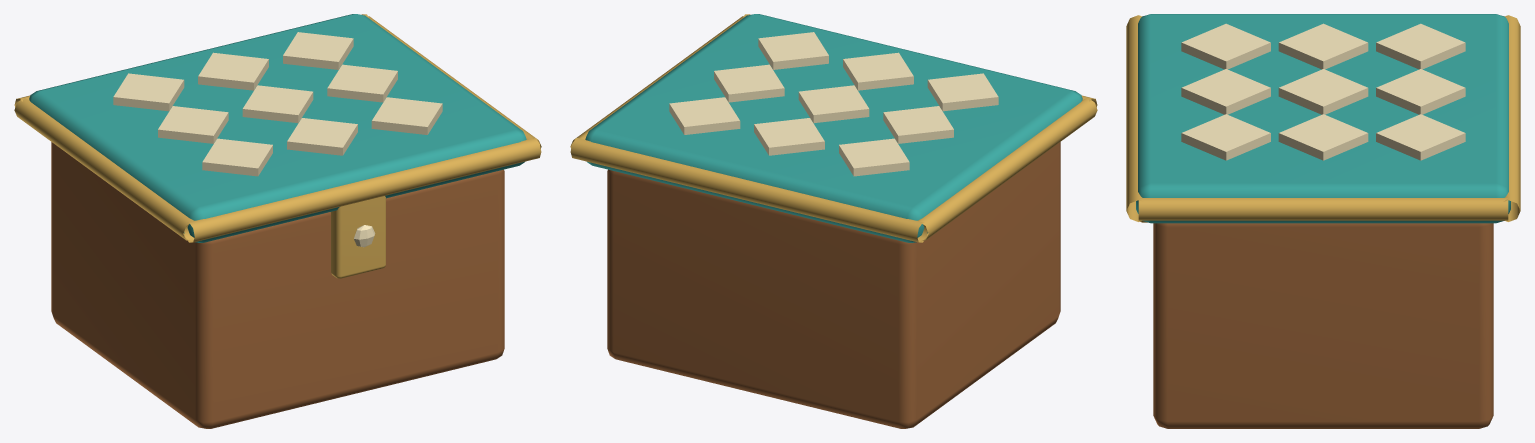
File: morocco-tile-box.glb
3 views of the same model, side by side, from view 1: azimuth 30°, elevation 25°; view 2: azimuth 150°, elevation 25°; view 3: azimuth 270°, elevation 25° (orthographic). The views are drawn at different scales.
Visible parts, largest first — view 1: こばこ, タイルの ふた, はこの ふち, はこの ふち.002, まえの とめがね, ひしがた.004, ひしがた.002, ひしがた.006, ひしがた, ひしがた.005, ひしがた.007, ひしがた.008 (+3 smaller); view 2: こばこ, タイルの ふた, はこの ふち.001, はこの ふち.002, ひしがた.004, ひしがた, ひしがた.008, ひしがた.002, ひしがた.003, ひしがた.007, ひしがた.006, ひしがた.005 (+2 smaller); view 3: こばこ, タイルの ふた, はこの ふち.003, ひしがた.004, ひしがた.007, ひしがた.001, ひしがた.006, ひしがた.008, ひしがた, ひしがた.002, ひしがた.003, ひしがた.005 (+2 smaller).
Part boxes in pixels (x1,y1,x2,y2): こばこ: (51,142,504,428); タイルの ふた: (29,14,526,242); はこの ふち: (184,138,541,242); はこの ふち.002: (14,98,193,241); まえの とめがね: (330,196,385,278); ひしがた.004: (242,85,313,123); ひしがた.002: (113,73,184,111); ひしがた.006: (371,97,442,134); ひしがた: (202,138,272,176); ひしがた.005: (198,52,268,90); ひしがた.007: (327,64,397,102); ひしがた.008: (283,32,353,69); こばこ: (607,142,1060,428); タイルの ふた: (585,14,1082,242); はこの ふち.001: (570,138,927,242); はこの ふち.002: (918,98,1097,241); ひしがた.004: (798,85,869,123); ひしがた: (927,73,998,111); ひしがた.008: (669,97,740,134); ひしがた.002: (839,138,909,176); ひしがた.003: (843,52,913,90); ひしがた.007: (714,64,784,102); ひしがた.006: (758,32,828,69); ひしがた.005: (754,118,824,155); こばこ: (1153,223,1493,428); タイルの ふた: (1136,14,1510,223); はこの ふち.003: (1138,198,1508,220); ひしがた.004: (1278,69,1368,114); ひしがた.007: (1278,114,1368,160); ひしがた.001: (1278,23,1368,69); ひしがた.006: (1181,114,1270,160); ひしがた.008: (1376,114,1465,160); ひしがた: (1181,23,1270,69); ひしがた.002: (1376,23,1465,69); ひしがた.003: (1181,69,1270,114); ひしがた.005: (1376,69,1465,114).
Size of the model in its own units: 0.93 by 0.6 by 0.81.
